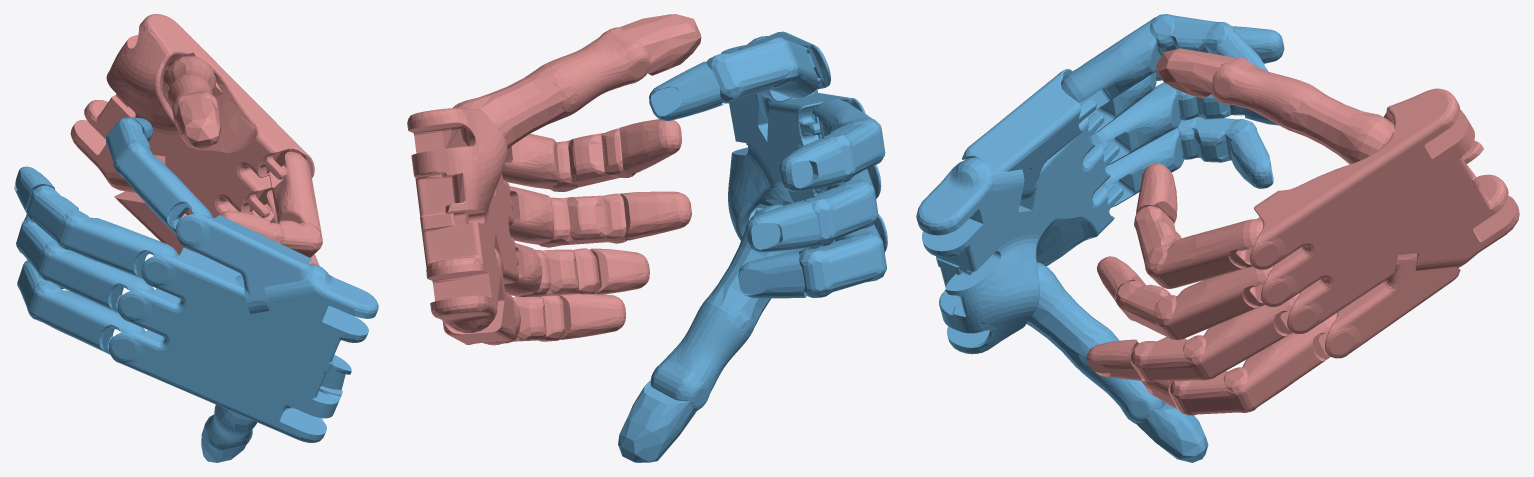
Rendered from Wallet_pc.glb.
The picture shows the model from 3 angles, left to right: view 1: azimuth 30°, elevation 25°; view 2: azimuth 150°, elevation 25°; view 3: azimuth 270°, elevation 25°; orthographic projection. The views are drawn at different scales.
Visible parts, largest first — view 1: geom_1, geom_2; view 2: geom_2, geom_1; view 3: geom_2, geom_1.
Part boxes in pixels (x1=…): geom_1: x1=14, y1=117, x2=378, y2=462; geom_2: x1=70, y1=14, x2=322, y2=265; geom_2: x1=407, y1=14, x2=701, y2=345; geom_1: x1=618, y1=31, x2=887, y2=462; geom_2: x1=1087, y1=48, x2=1519, y2=415; geom_1: x1=916, y1=14, x2=1284, y2=462.
Bounding box in the file's own units: 0.1753 × 0.1896 × 0.2599.
